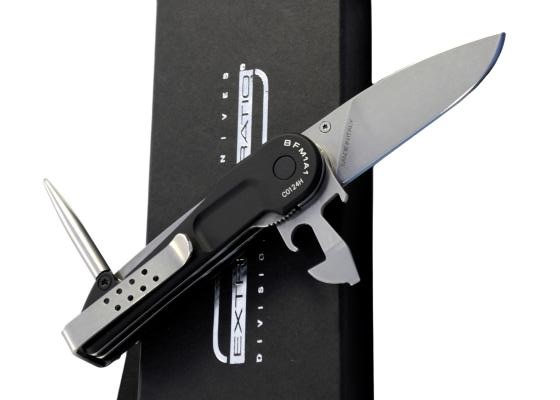knife: (297, 27, 512, 207)
